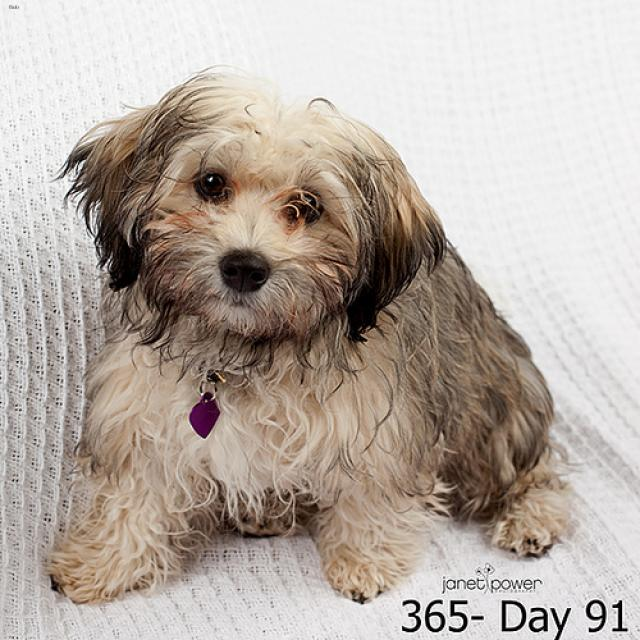dog-havanese: (24, 54, 589, 621)
